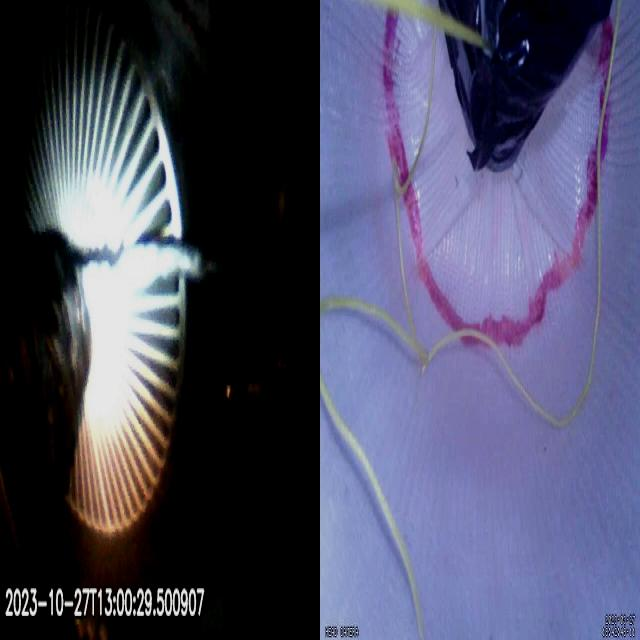red-circle: (382, 12, 614, 347)
